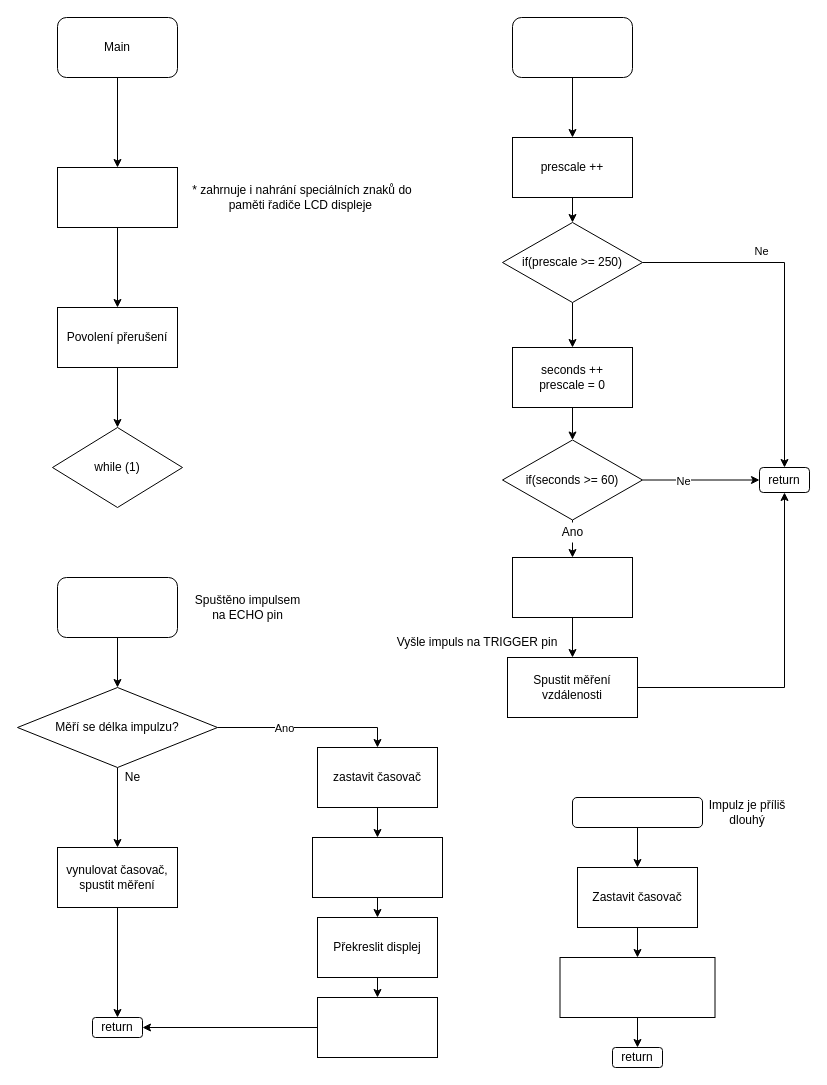
The diagram is 827 pixels wide and 1085 high, and some of its shapes have lost their labels. The shapes that lost their labels are listed below. From the top down, each one's centre as x and y in pixels, then its label:
At (572,47): "TIMER0_OVF_VECT (4ms)".
At (117,197): "Inicialize registrů a periferie*".
At (117,607): "INT0_vect".
At (572,587): "seconds = 0".
At (637,812): "TIM1_OVF_VECT".
At (377,867): "zpracovat hodnoty".
At (637,987): "Zobrazit chybu na LCD".
At (377,1027): "Sepnout/rozepnout relé".
